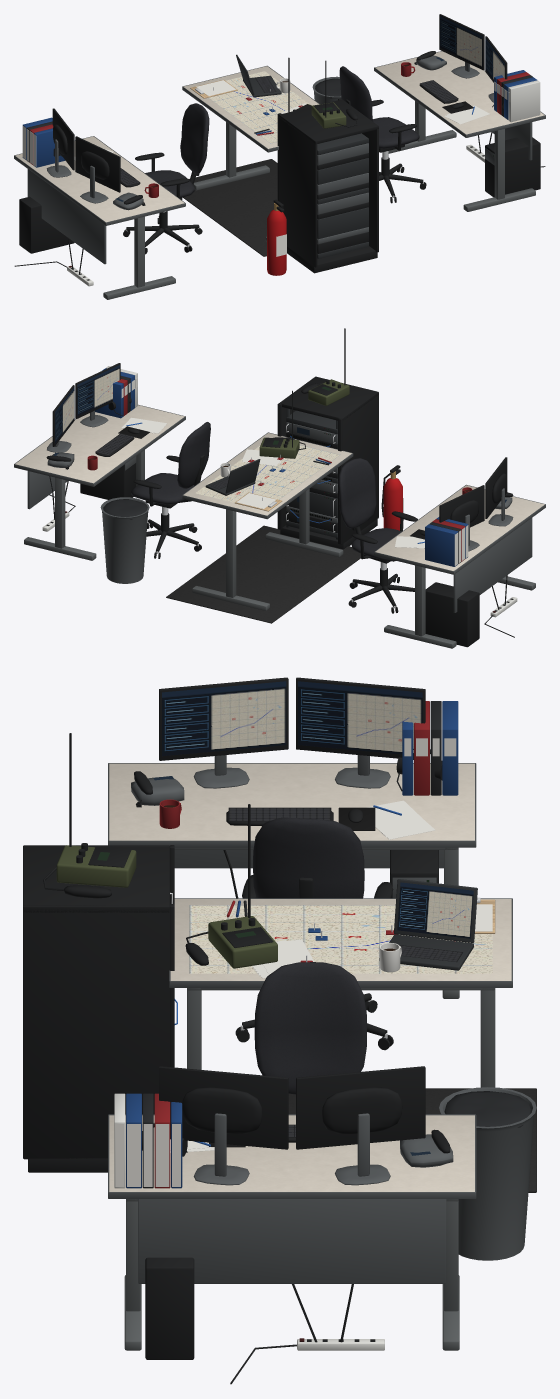
Rendered from trecc-fitout-command-post.glb.
3 renders of one model, top to bottom at view 1: azimuth 30°, elevation 25°; view 2: azimuth 150°, elevation 25°; view 3: azimuth 270°, elevation 25°, orthographic. The views are drawn at different scales.
Visible parts, largest first — view 1: TRECC_fitout; view 2: TRECC_fitout; view 3: TRECC_fitout.
Part boxes in pixels (x1,y1,x2,y2): TRECC_fitout: (14, 14, 545, 299); TRECC_fitout: (14, 328, 545, 648); TRECC_fitout: (23, 677, 536, 1384).
Bounding box in the file's own units: 4.72 × 1.8 × 2.1.
Materials: 29 (7 with a texture image).
